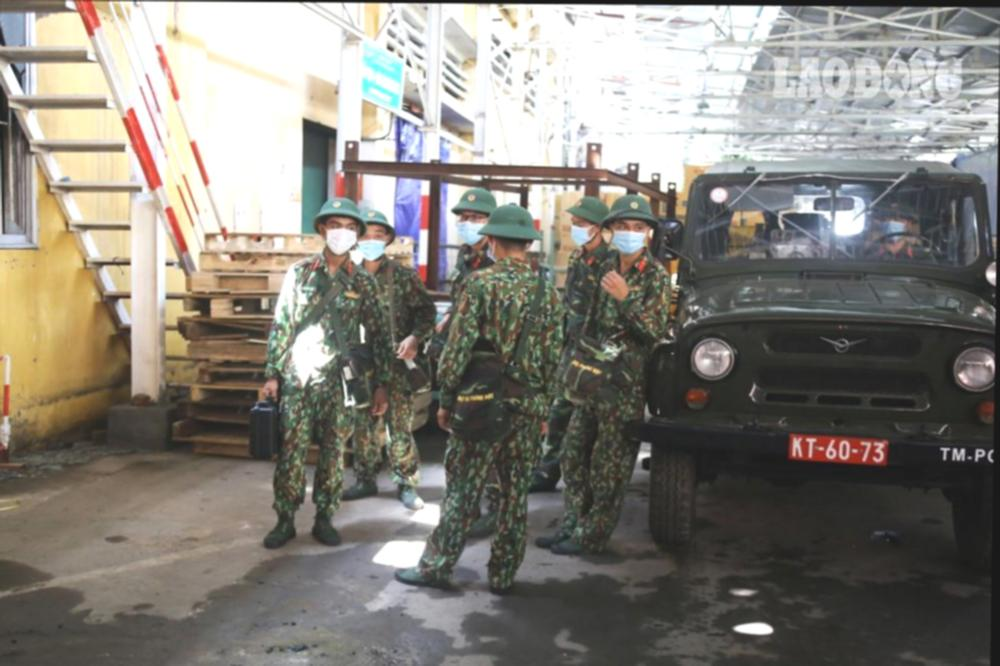License_Plate: (784, 431, 891, 469)
